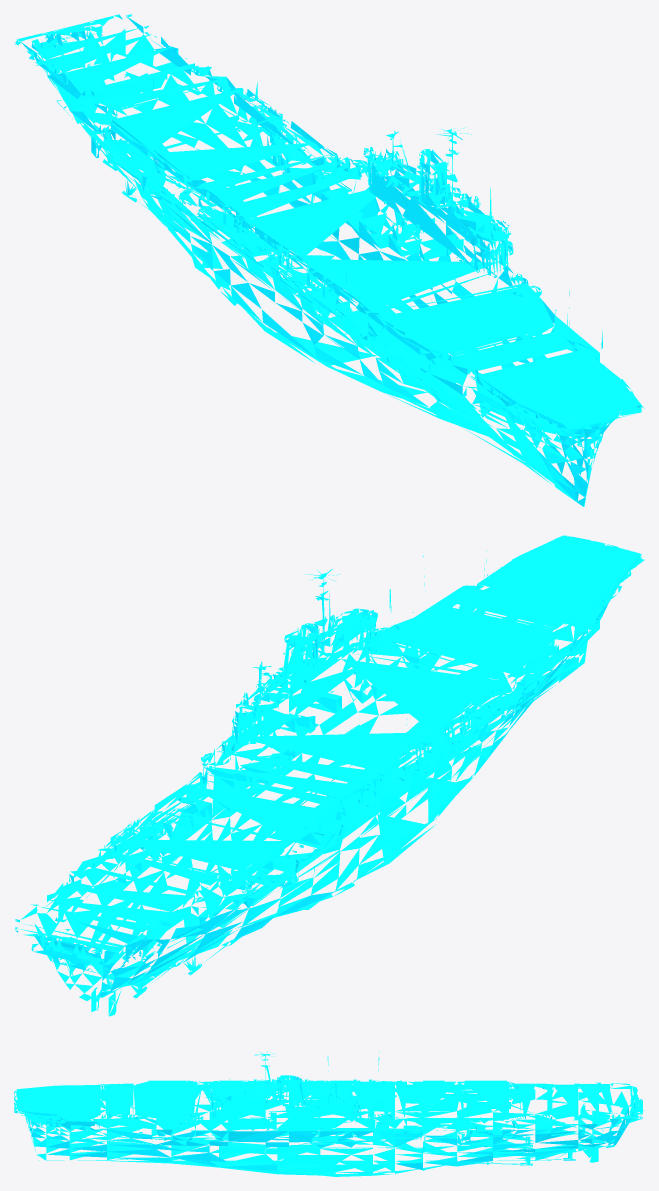
The model's file is Audacious.glb.
The picture shows the model from 3 angles, top to bottom: view 1: azimuth 30°, elevation 25°; view 2: azimuth 150°, elevation 25°; view 3: azimuth 270°, elevation 25°; orthographic projection. The views are drawn at different scales.
Bounding box in the file's own units: 2.94 × 3.87 × 16.49.
